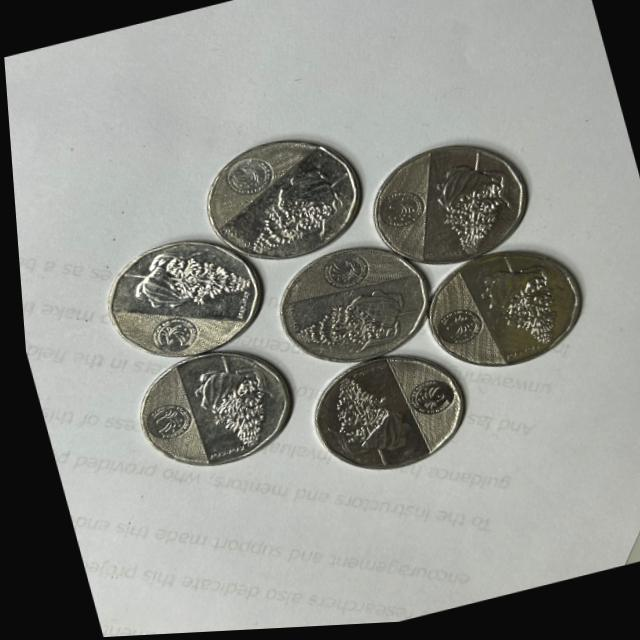10_New_Back: (114, 226, 274, 342), (214, 163, 353, 266), (411, 148, 526, 264), (277, 274, 416, 366), (462, 254, 575, 363), (305, 370, 414, 480), (174, 352, 284, 461)
